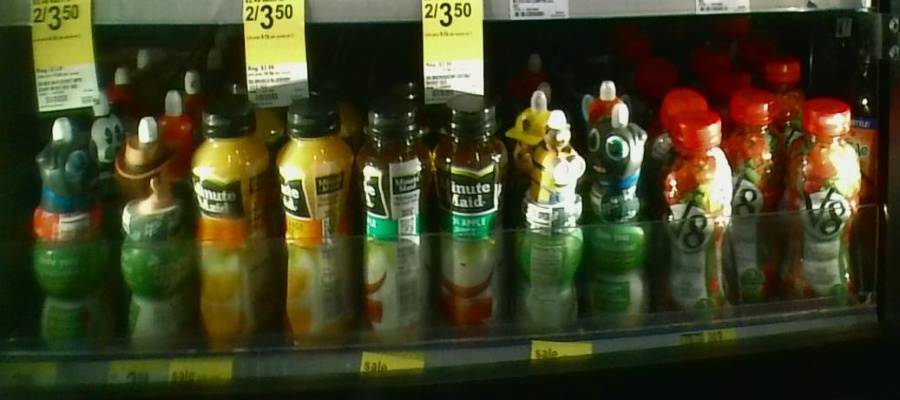bottle: (275, 94, 356, 351), (193, 94, 268, 355), (360, 99, 437, 352), (114, 102, 190, 356), (30, 115, 111, 350), (439, 91, 511, 347), (787, 84, 865, 316), (660, 115, 737, 325), (515, 98, 582, 339), (586, 103, 647, 339), (739, 94, 783, 312)
